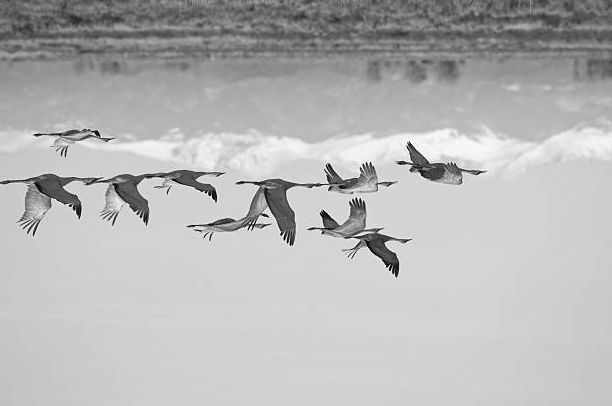Bird: (230, 171, 332, 248), (0, 172, 104, 236), (391, 140, 487, 189), (92, 169, 171, 227), (338, 227, 413, 279), (312, 156, 396, 198), (149, 159, 225, 204), (307, 196, 386, 237), (186, 209, 273, 244), (32, 123, 118, 157)
